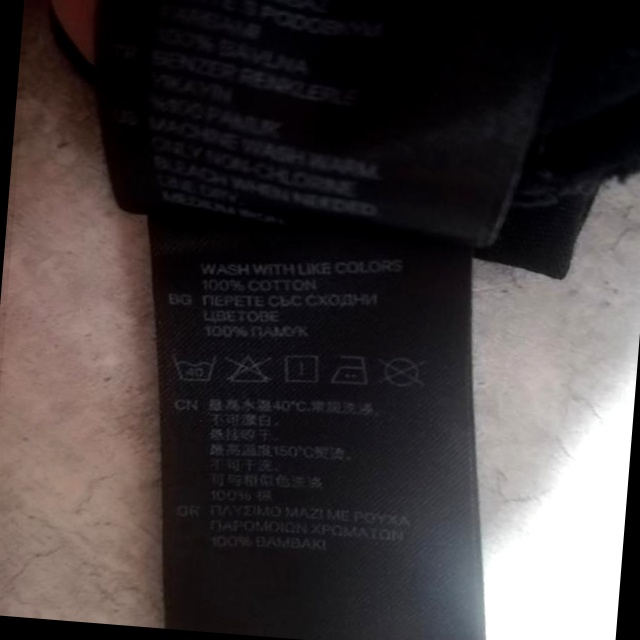40C: (173, 346, 221, 386)
DN_bleach: (225, 349, 276, 392)
DN_dry_clean: (374, 351, 432, 395)
iron_medium: (329, 351, 373, 392)
